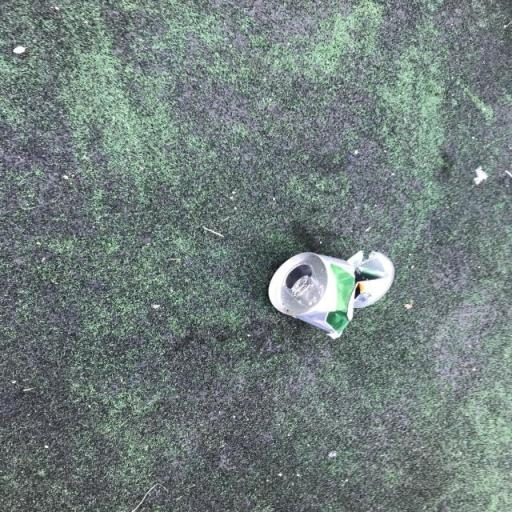metal: (259, 228, 418, 358)
